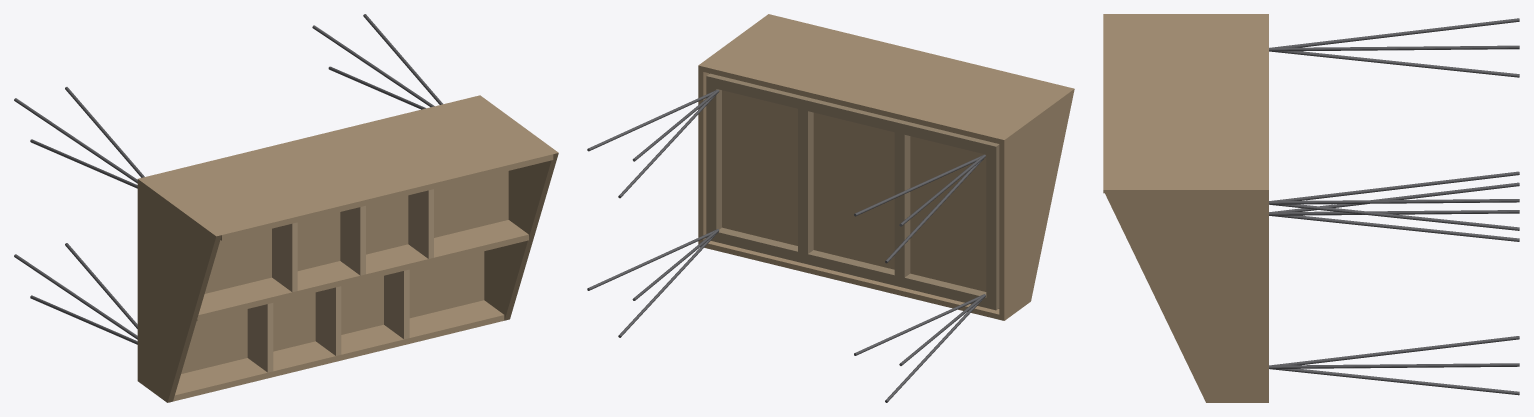
File: vinyl_record_storage.glb
3 renders of one model, left to right at view 1: azimuth 30°, elevation 25°; view 2: azimuth 150°, elevation 25°; view 3: azimuth 270°, elevation 25°, orthographic. The views are drawn at different scales.
Visible parts, largest first — view 1: back, side_left, back_shelf_bottom, bottom, shelf_divider, front, side_right, front_divider_1, front_divider_2, front_divider_3, back_divider_1, back_divider_2 (+4 smaller); view 2: bottom, back, side_left, frame_front, frame_back, front, frame_right, frame_left, frame_cross_2, frame_cross_1, side_right, leg_back_right (+3 smaller); view 3: back, side_right, leg_front_right, leg_back_right, leg_back_left, leg_front_left, side_left.
Part boxes in pixels (left/top/right/bottom): back: left=143, top=96, right=553, bottom=240; side_left: left=137, top=177, right=221, bottom=402; back_shelf_bottom: left=204, top=171, right=508, bottom=293; bottom: left=181, top=251, right=484, bottom=373; shelf_divider: left=197, top=220, right=528, bottom=320; front: left=173, top=300, right=504, bottom=401; side_right: left=475, top=95, right=558, bottom=320; front_divider_1: left=247, top=303, right=273, bottom=372; front_divider_2: left=315, top=286, right=341, bottom=355; front_divider_3: left=384, top=269, right=409, bottom=339; back_divider_1: left=272, top=222, right=297, bottom=292; back_divider_2: left=340, top=205, right=365, bottom=275; bottom: left=709, top=73, right=999, bottom=308; back: left=703, top=15, right=1069, bottom=143; side_left: left=999, top=87, right=1074, bottom=320; frame_front: left=716, top=227, right=986, bottom=307; frame_back: left=716, top=76, right=989, bottom=154; front: left=704, top=241, right=999, bottom=319; frame_right: left=706, top=73, right=721, bottom=241; frame_left: left=986, top=142, right=999, bottom=310; frame_cross_2: left=798, top=109, right=813, bottom=253; frame_cross_1: left=894, top=132, right=910, bottom=277; side_right: left=698, top=14, right=772, bottom=244; leg_back_right: left=587, top=89, right=719, bottom=198; back: left=1103, top=17, right=1268, bottom=193; side_right: left=1103, top=187, right=1268, bottom=402; leg_front_right: left=1269, top=336, right=1519, bottom=395; leg_back_right: left=1269, top=171, right=1519, bottom=230; leg_back_left: left=1269, top=18, right=1519, bottom=77; leg_front_left: left=1269, top=182, right=1519, bottom=241; side_left: left=1103, top=14, right=1268, bottom=16.
Size of the model in its own units: 47.83 by 27.25 by 46.53.
